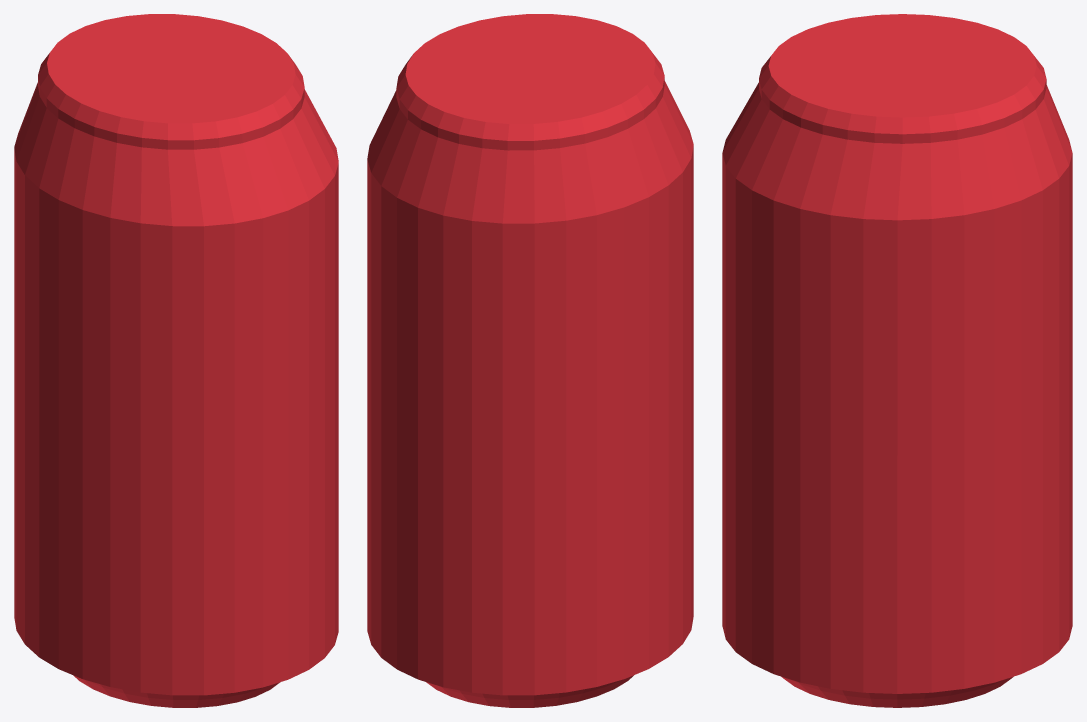
The model's file is Red Colored Can Cruz .fbx.
3 views of the same model, side by side, from view 1: azimuth 30°, elevation 25°; view 2: azimuth 150°, elevation 25°; view 3: azimuth 270°, elevation 25° (orthographic).
Visible parts, largest first — view 1: Cylinder; view 2: Cylinder; view 3: Cylinder.
Part boxes in pixels (x1,y1,x2,y2): Cylinder: [14, 14, 338, 707]; Cylinder: [367, 14, 693, 707]; Cylinder: [722, 14, 1072, 707].
Bounding box in the file's own units: 397 × 812 × 434.
